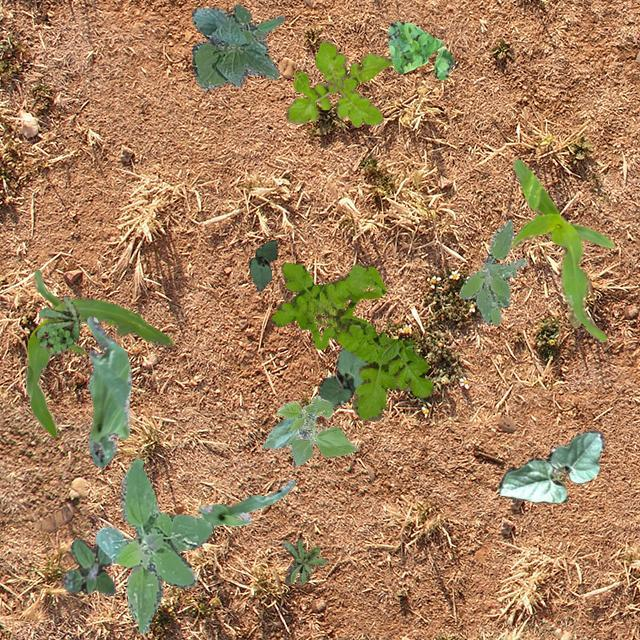crop: (23, 268, 172, 436), (510, 157, 612, 340), (190, 3, 284, 88), (498, 429, 604, 502), (86, 316, 130, 466), (262, 394, 356, 464), (198, 478, 294, 526), (318, 346, 368, 406), (248, 238, 276, 290)
weed: (270, 262, 432, 420), (94, 457, 212, 632), (286, 38, 392, 126), (458, 218, 526, 324), (388, 21, 456, 78), (62, 538, 115, 594), (34, 294, 80, 354), (281, 538, 325, 584)
